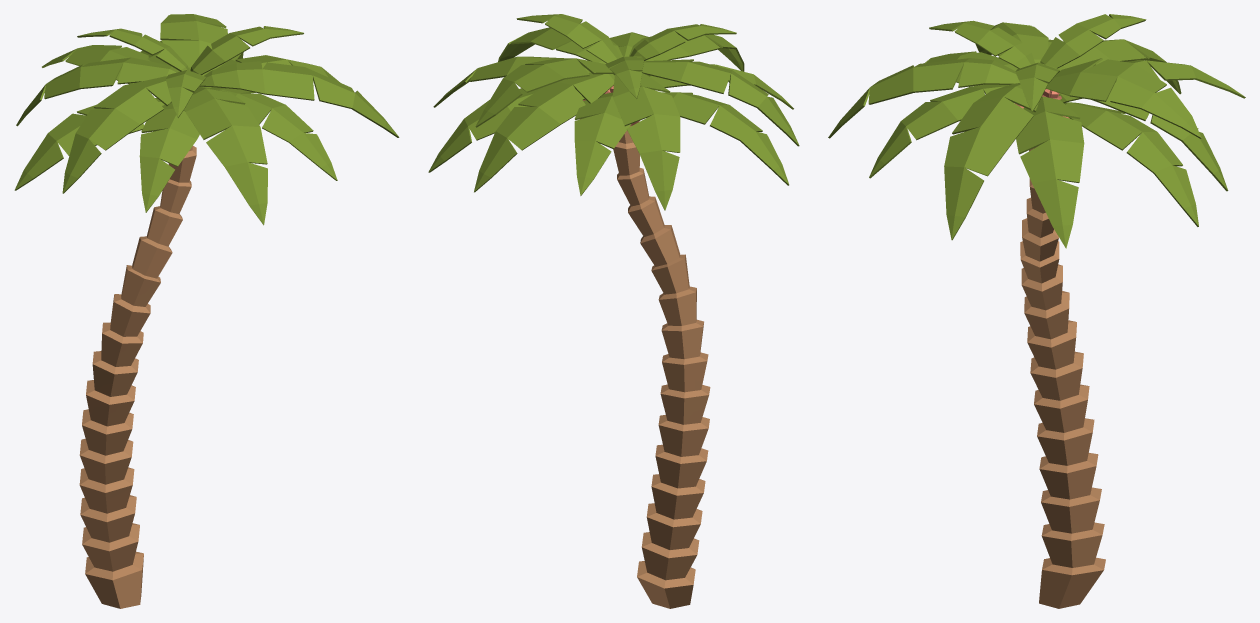
The model's file is Palm_1.fbx.
3 renders of one model, left to right at view 1: azimuth 30°, elevation 25°; view 2: azimuth 150°, elevation 25°; view 3: azimuth 270°, elevation 25°, orthographic. The views are drawn at different scales.
Parts seen in each view (by area): view 1: Palm_1.001; view 2: Palm_1.001; view 3: Palm_1.001.
Part boxes in pixels (left/top/right/bottom): Palm_1.001: left=14, top=14, right=399, bottom=608; Palm_1.001: left=428, top=14, right=799, bottom=608; Palm_1.001: left=828, top=14, right=1245, bottom=608.
Bounding box in the file's own units: 2.87 × 4.29 × 2.75.
